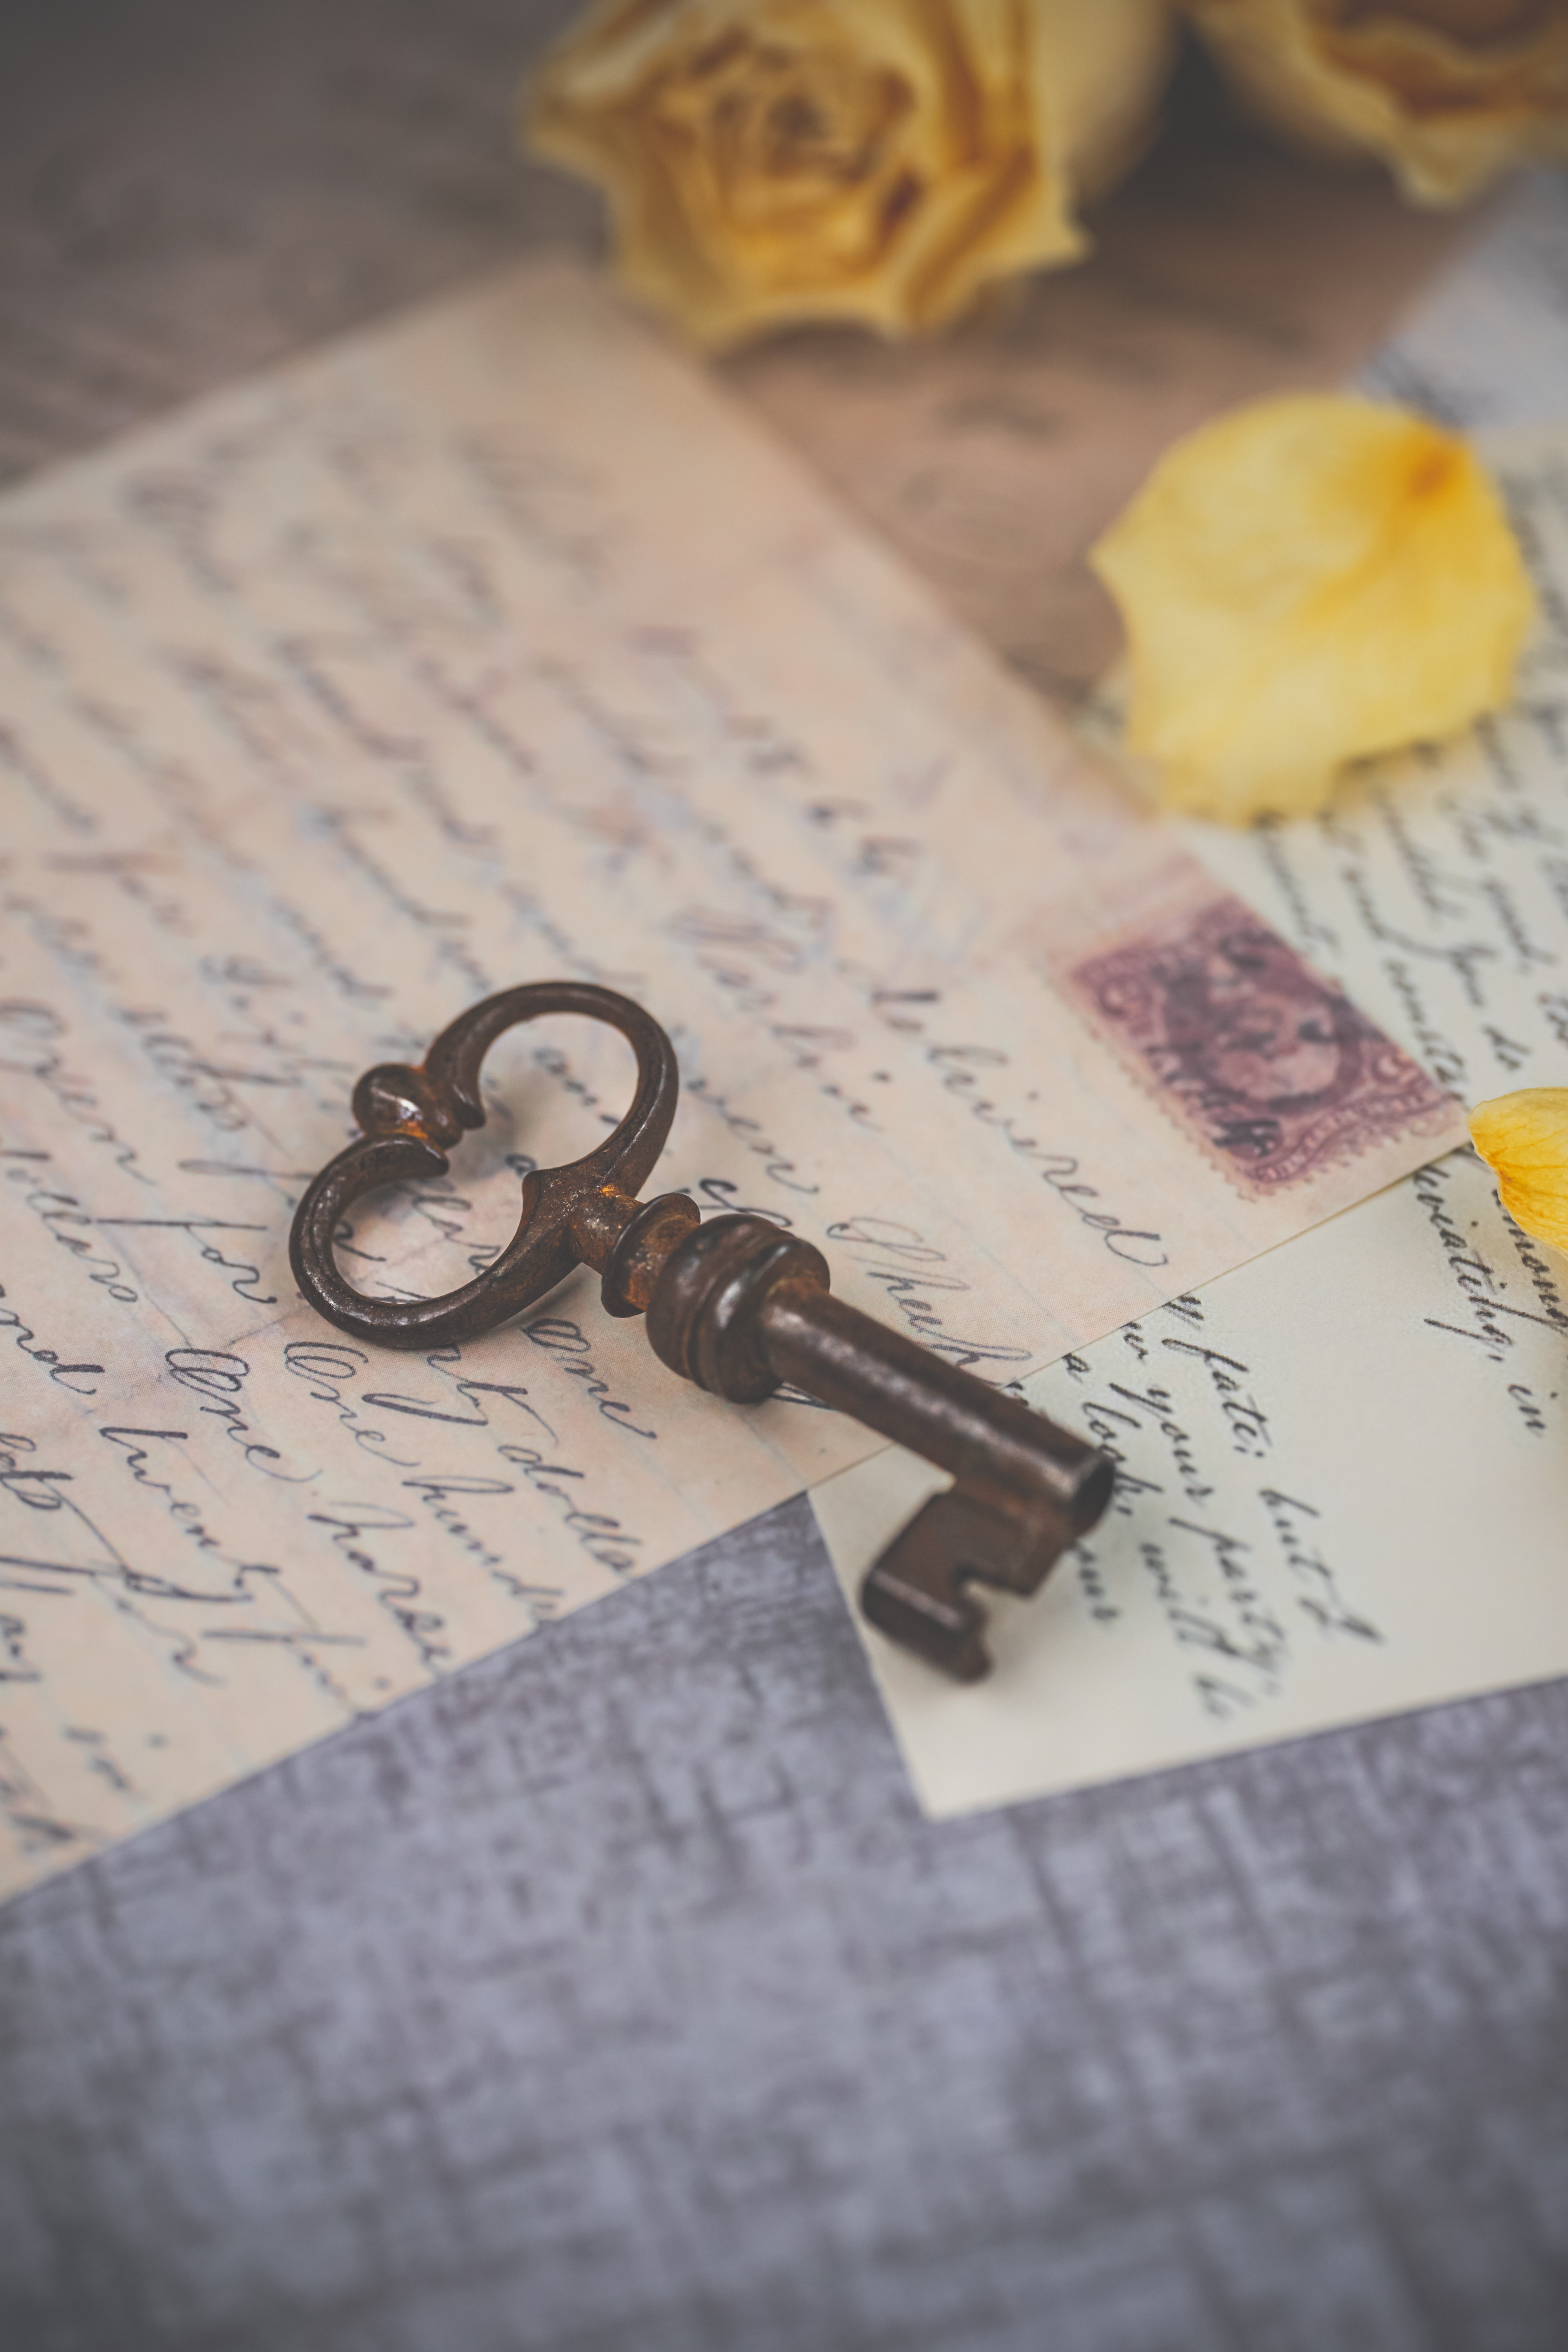key: (256, 954, 1200, 1738)
